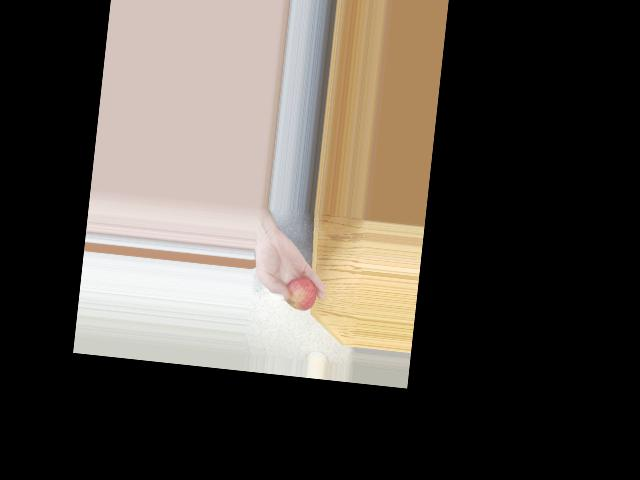apple: (281, 274, 317, 313)
